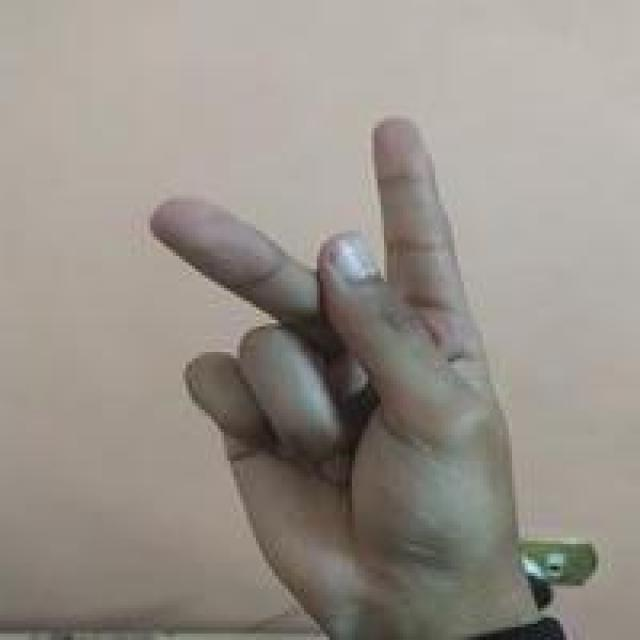K: (138, 112, 528, 598)
